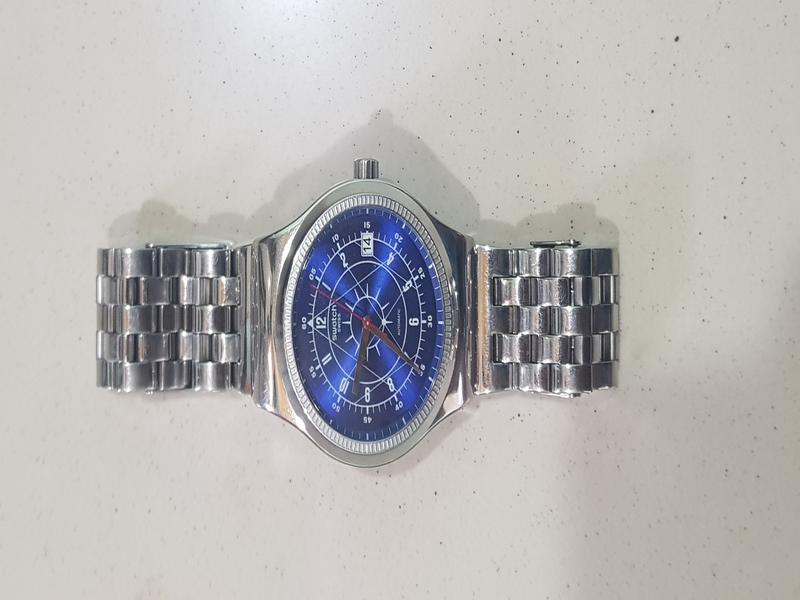watch: (77, 144, 662, 480)
